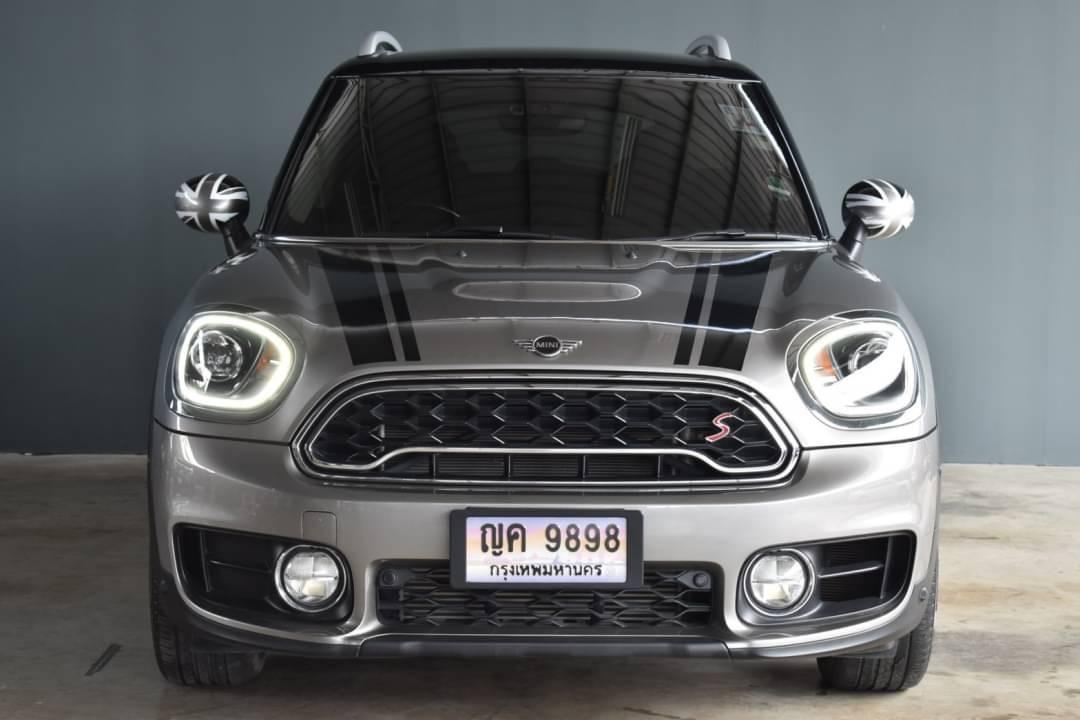license-plate: (454, 500, 640, 596)
